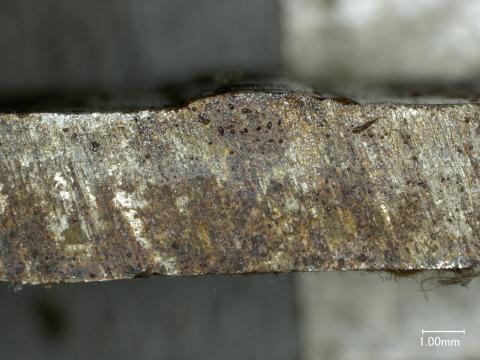test: (183, 93, 360, 109)
